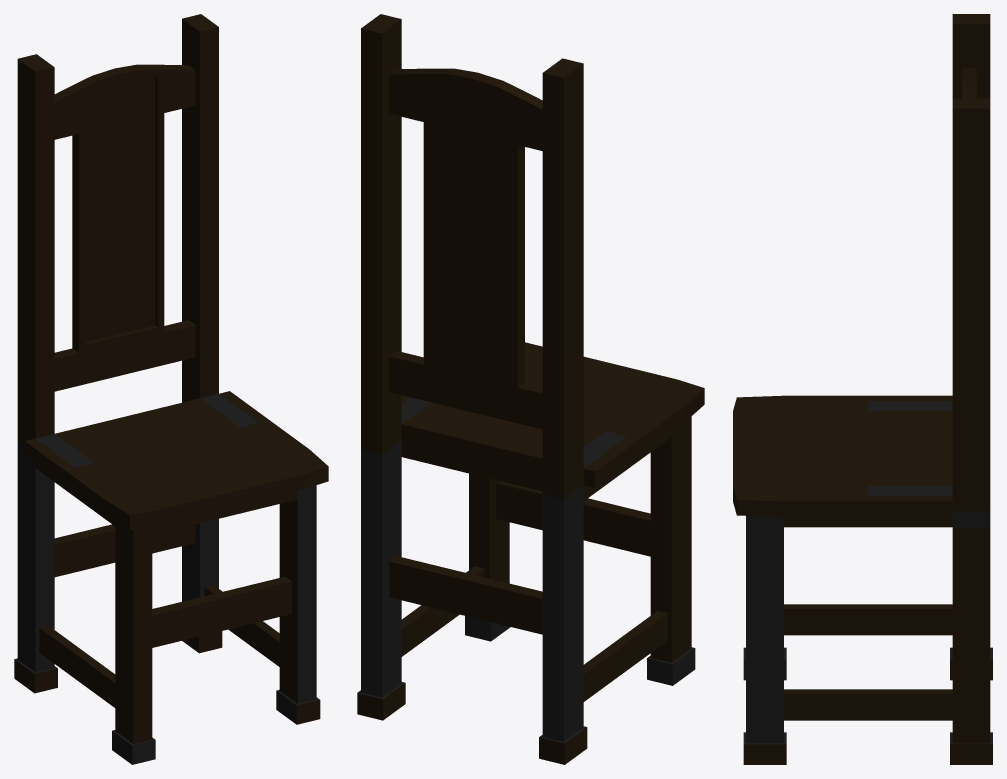
Rendered from Chair_B.fbx.
The picture shows the model from 3 angles, left to right: view 1: azimuth 30°, elevation 25°; view 2: azimuth 150°, elevation 25°; view 3: azimuth 270°, elevation 25°; orthographic projection. The views are drawn at different scales.
Visible parts, largest first — view 1: Chair_B; view 2: Chair_B; view 3: Chair_B.
Boxes of the visible parts, x1=… form: Chair_B: x1=14, y1=14, x2=328, y2=764; Chair_B: x1=357, y1=14, x2=704, y2=764; Chair_B: x1=733, y1=14, x2=992, y2=764.
Size of the model in its own units: 0.9543 by 2.76 by 0.9916.
